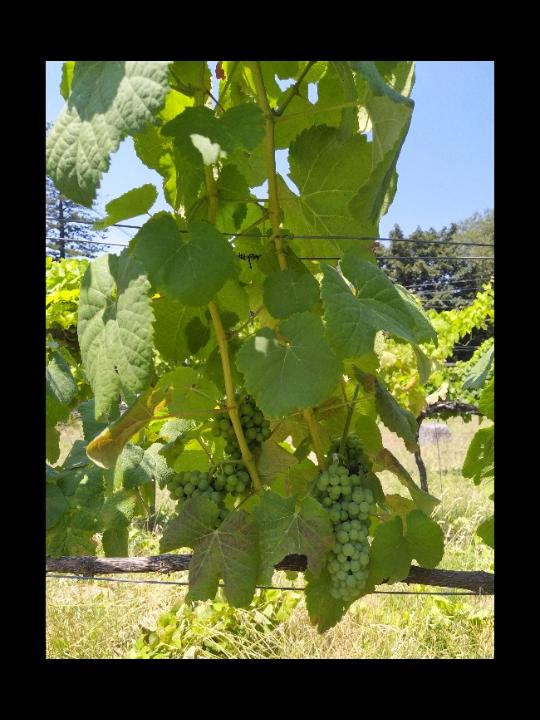grape: (315, 461, 376, 603), (209, 399, 272, 496), (163, 466, 233, 528)
